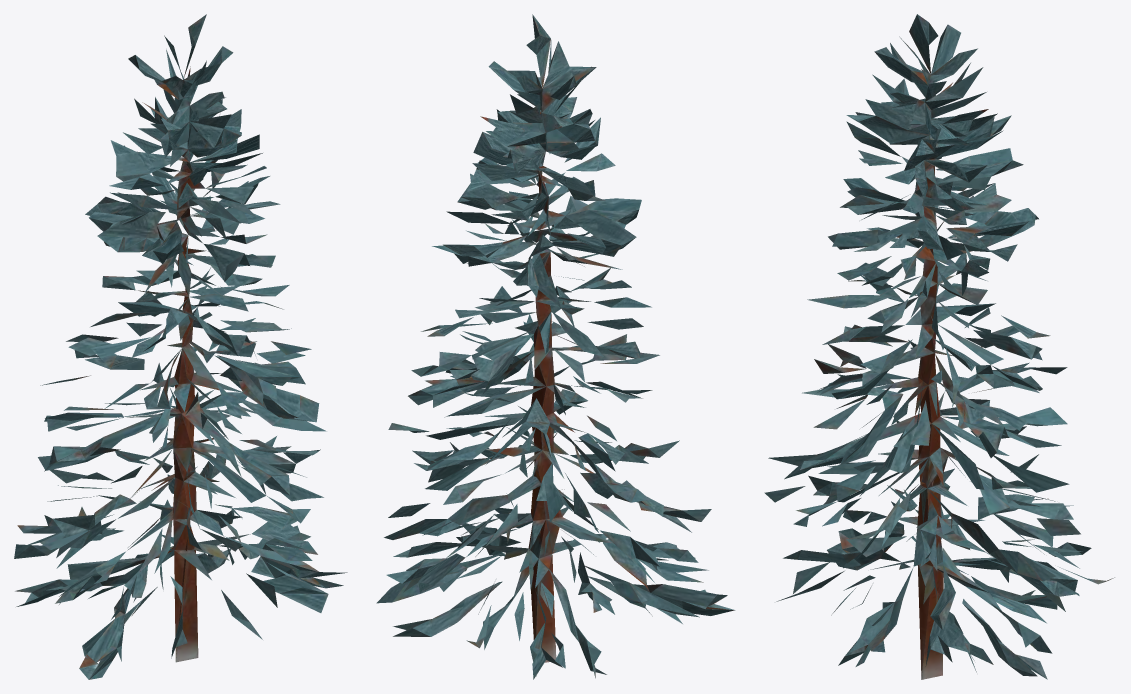
File: spruce.glb
The picture shows the model from 3 angles, left to right: view 1: azimuth 30°, elevation 25°; view 2: azimuth 150°, elevation 25°; view 3: azimuth 270°, elevation 25°; orthographic projection. The views are drawn at different scales.
Visible parts, largest first — view 1: mesh_node; view 2: mesh_node; view 3: mesh_node.
Part boxes in pixels (x1,y1,x2,y2): mesh_node: [14, 14, 347, 679]; mesh_node: [376, 14, 735, 679]; mesh_node: [764, 14, 1114, 679].
Bounding box in the file's own units: 0.8383 × 1.71 × 0.8141.
1 material, 1 textured.
